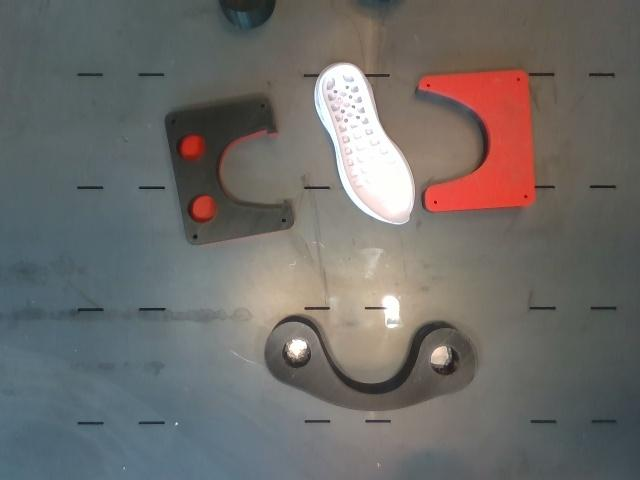shoes: (322, 65, 414, 223)
